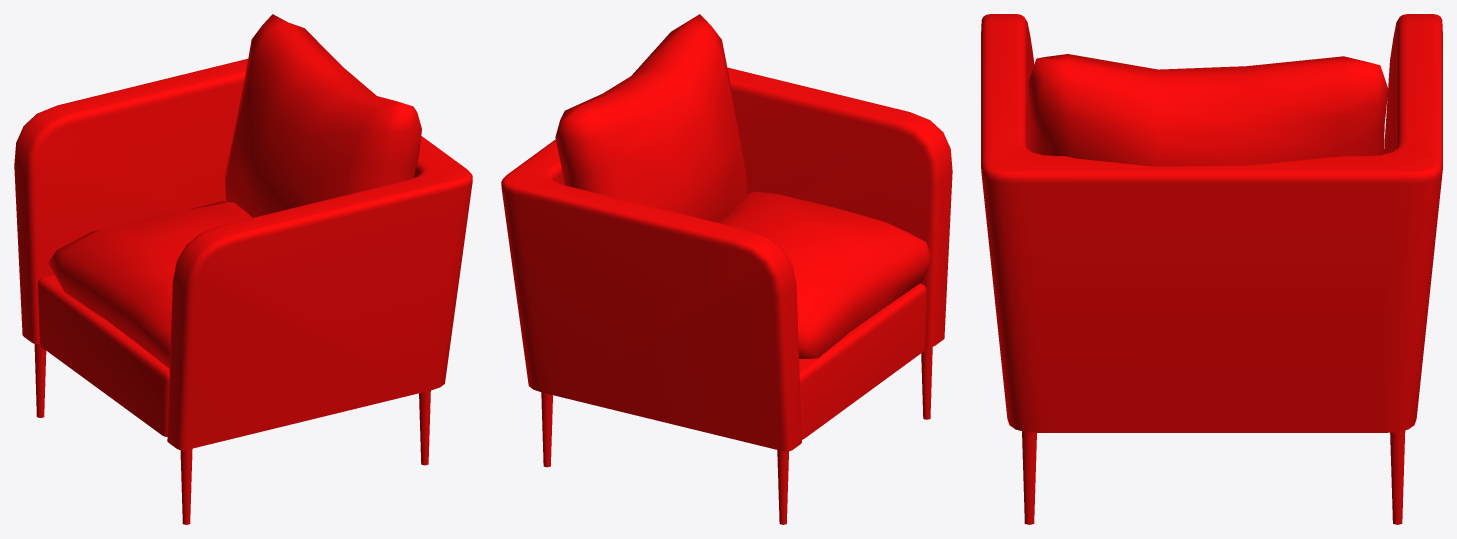
Rendered from armchair.fbx.
3 renders of one model, left to right at view 1: azimuth 30°, elevation 25°; view 2: azimuth 150°, elevation 25°; view 3: azimuth 270°, elevation 25°, orthographic. The views are drawn at different scales.
Parts seen in each view (by area): view 1: Object006; view 2: Object006; view 3: Object006.
Part boxes in pixels (<box>): Object006: <box>14,14,472,524</box>; Object006: <box>501,14,952,524</box>; Object006: <box>981,14,1442,524</box>.
Size of the model in its own units: 76.19 by 89.72 by 82.36.
